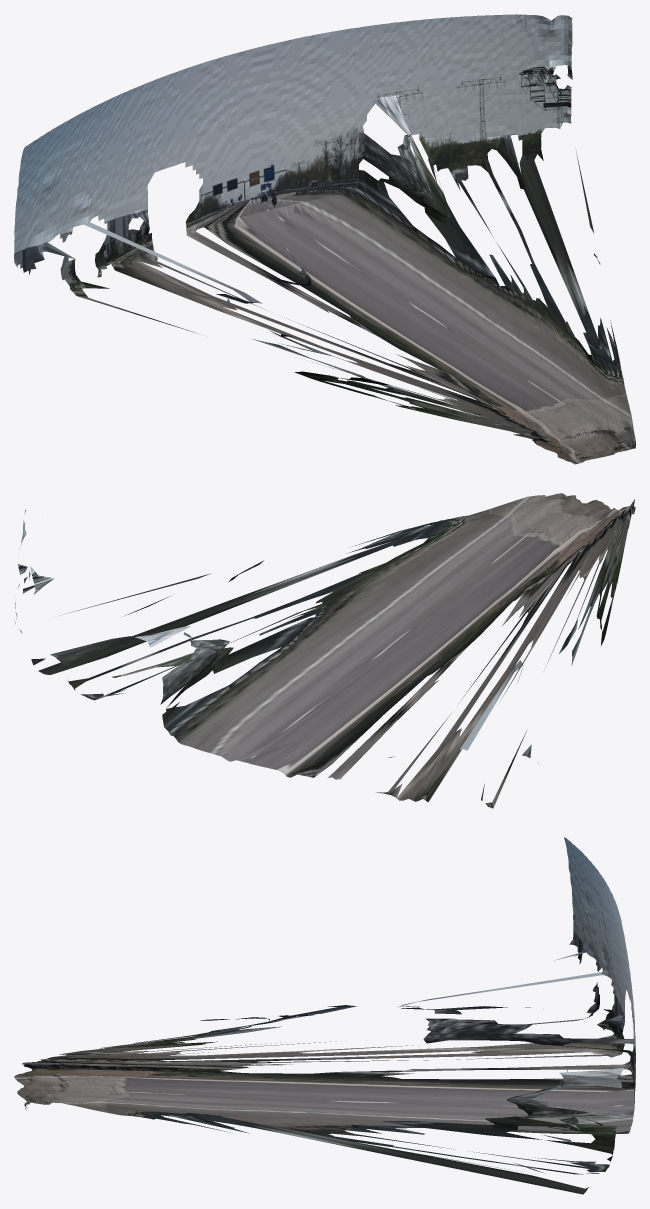
3 renders of one model, top to bottom at view 1: azimuth 30°, elevation 25°; view 2: azimuth 150°, elevation 25°; view 3: azimuth 270°, elevation 25°, orthographic. The views are drawn at different scales.
Visible parts, largest first — view 1: defaultobject; view 2: defaultobject; view 3: defaultobject.
Part boxes in pixels (<box>): defaultobject: <box>14,14,635,464</box>; defaultobject: <box>14,493,635,808</box>; defaultobject: <box>14,837,635,1194</box>.
Size of the model in its own units: 41.09 by 12.96 by 44.69.
Materials: 1 (1 with a texture image).
